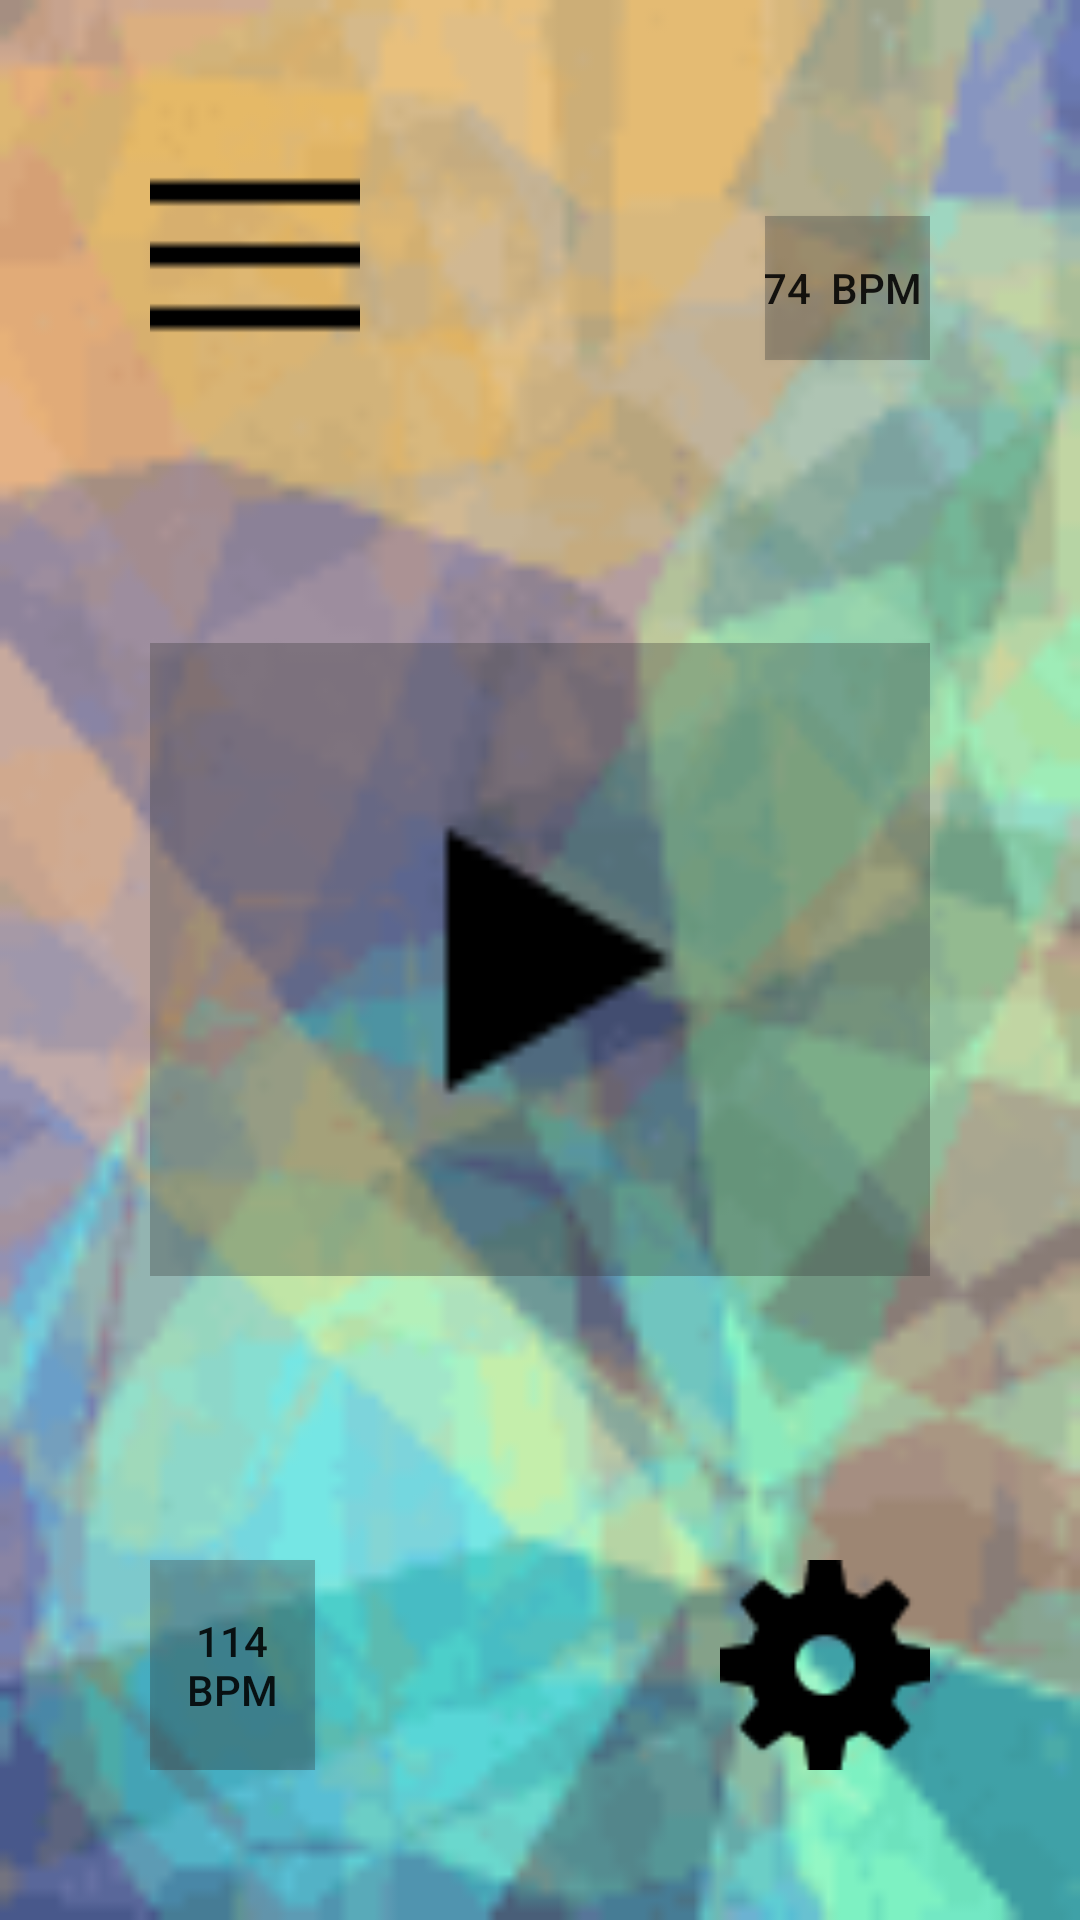

Named icons in this screenshot (1080x1920) and their centers, (x=x, y=y):
menu: (x=255, y=257)
settings: (x=825, y=1665)
